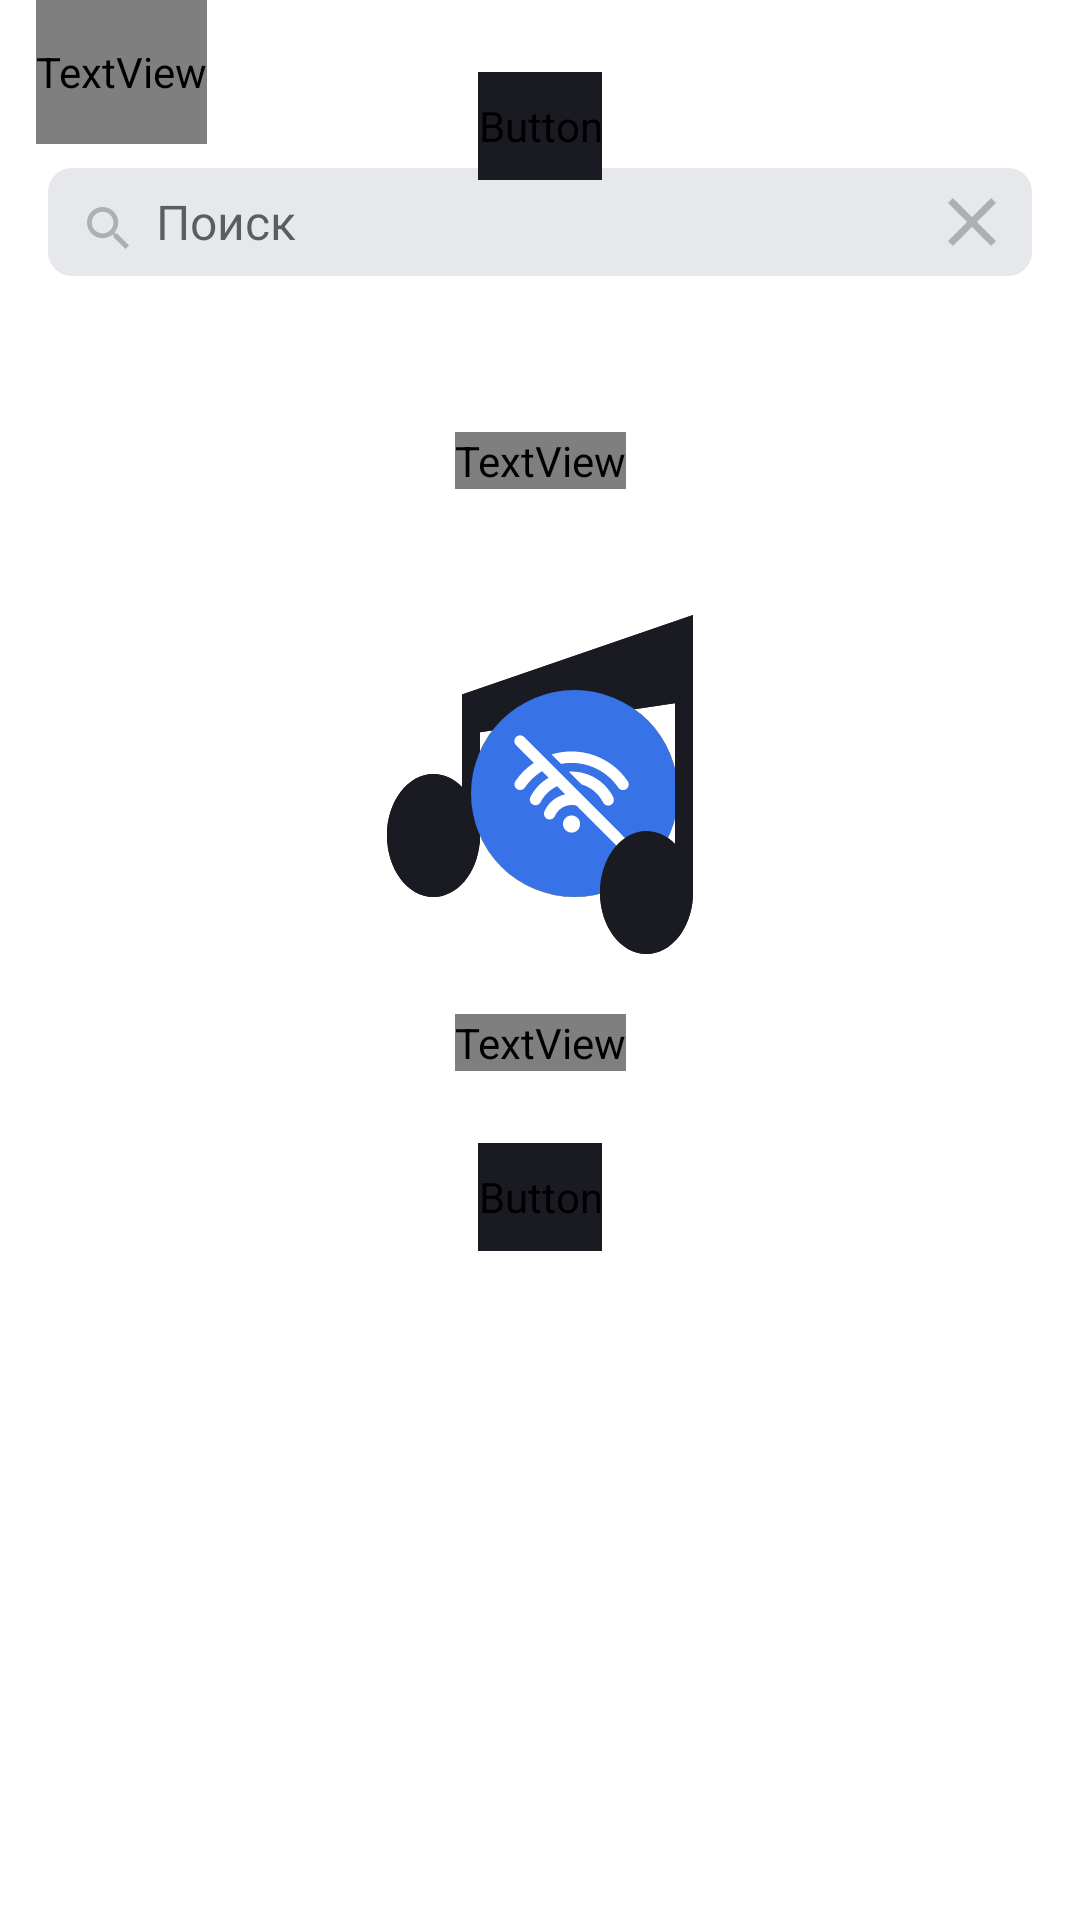

Named icons in this screenshot (1080w x 1920h) and their centers, point (x, y):
close: point (972, 222)
search: point (108, 228)
